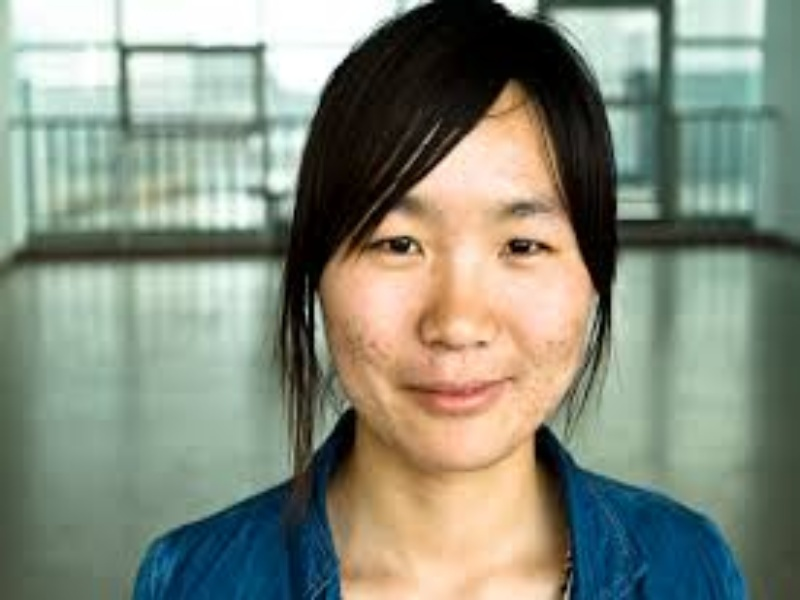face: (361, 162, 569, 432)
